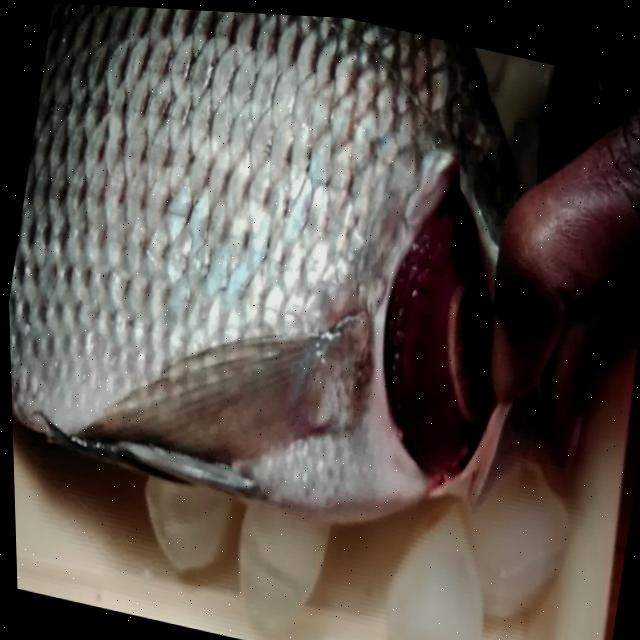Fresh: (341, 100, 543, 510)
